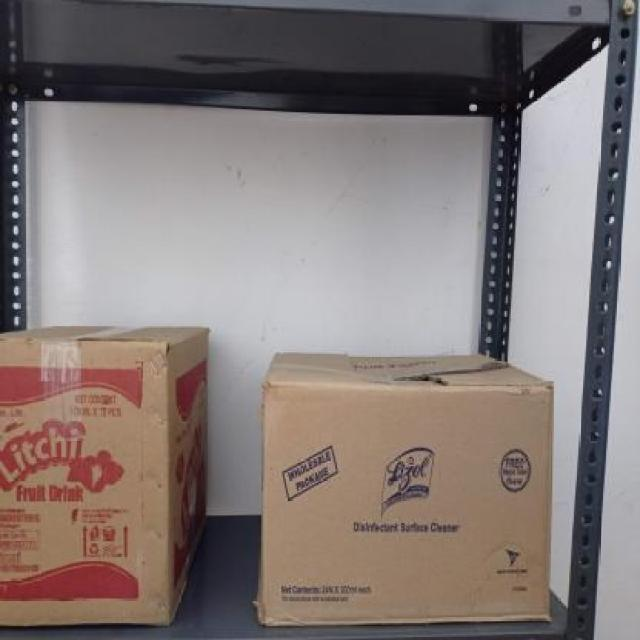box: (256, 378, 558, 624), (3, 338, 165, 630)
